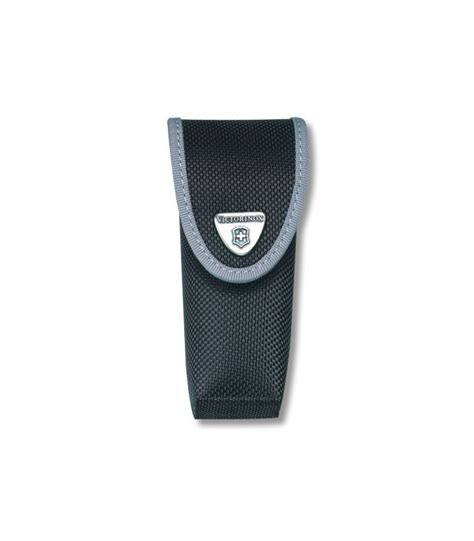nylon: (166, 117, 311, 421)
